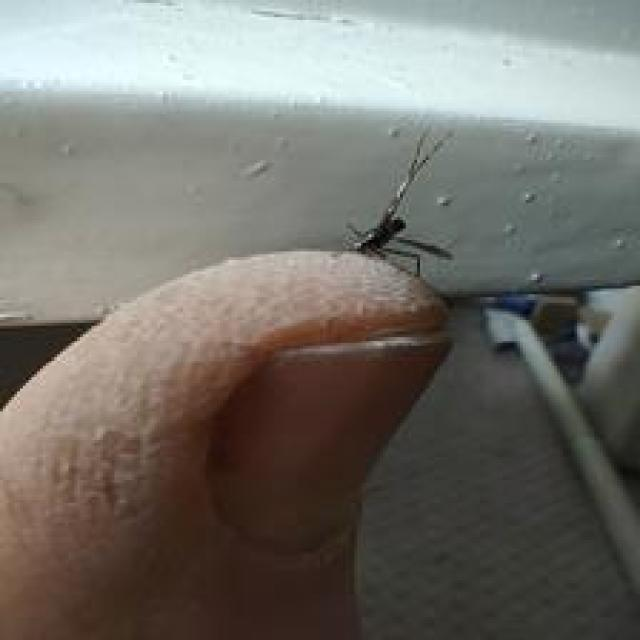Aedes albopictus: (341, 124, 456, 279)
